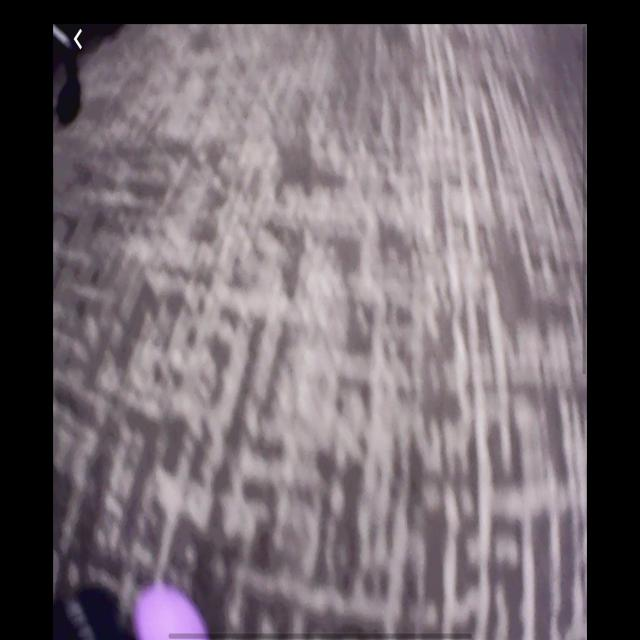ball: (133, 581, 210, 639)
